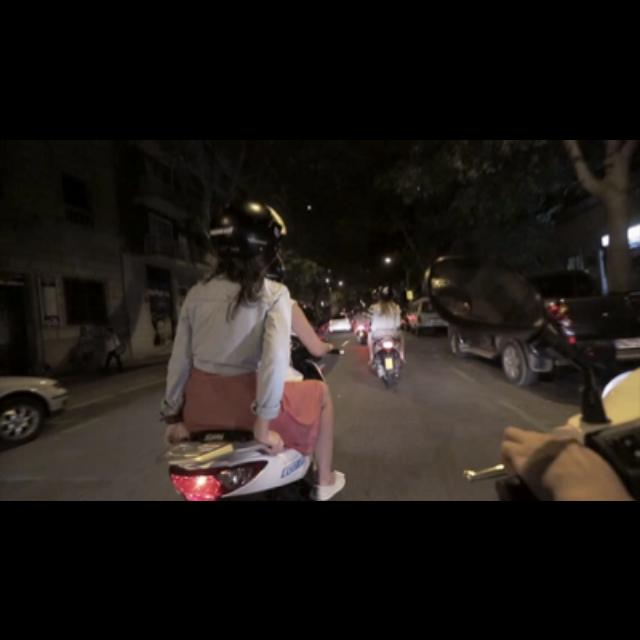With Helmet: (214, 200, 286, 276), (378, 281, 394, 299)
